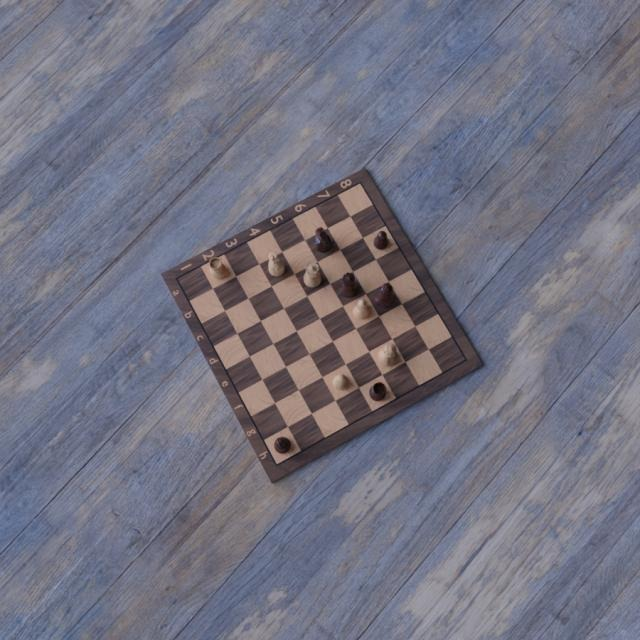black-bishop: (273, 435, 291, 455)
black-king: (374, 282, 394, 310)
black-knight: (314, 226, 334, 253)
black-pawn: (372, 230, 390, 251)
black-queen: (339, 273, 359, 299)
black-rook: (369, 380, 387, 400)
white-bishop: (353, 296, 371, 321)
white-king: (377, 343, 399, 368)
white-knight: (266, 251, 285, 279)
white-pawn: (331, 373, 351, 393)
white-queen: (302, 260, 321, 288)
white-rook: (209, 256, 227, 280)
